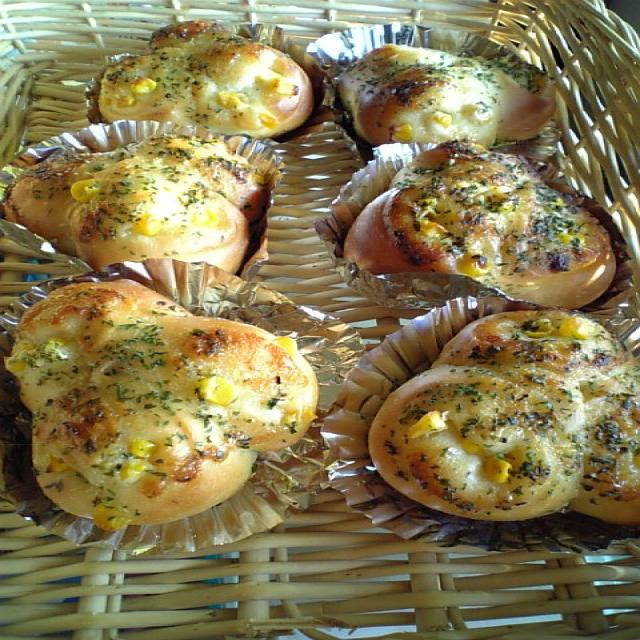三明治: (0, 32, 640, 548)
